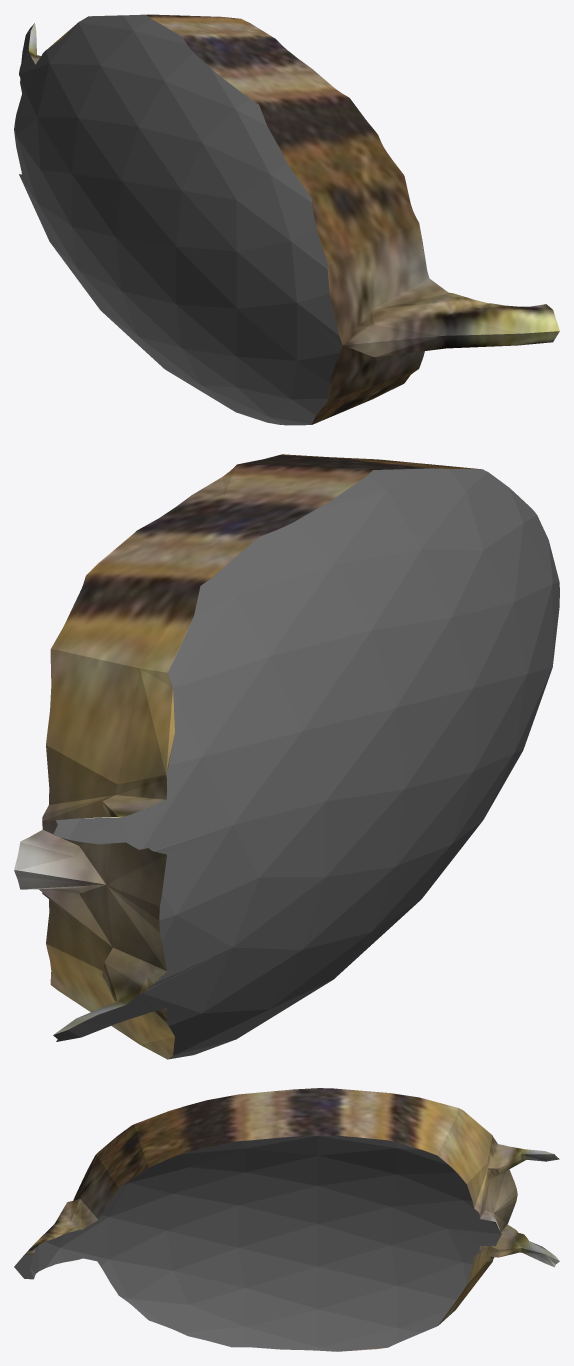
The picture shows the model from 3 angles, top to bottom: view 1: azimuth 30°, elevation 25°; view 2: azimuth 150°, elevation 25°; view 3: azimuth 270°, elevation 25°; orthographic projection. The views are drawn at different scales.
Parts seen in each view (by area): view 1: link_7_visual; view 2: link_7_visual; view 3: link_7_visual.
Boxes of the visible parts, box(x1,y1,x2,y2) form: link_7_visual: box(14, 14, 559, 425); link_7_visual: box(14, 454, 559, 1059); link_7_visual: box(14, 1088, 559, 1351).
Bounding box in the file's own units: 0.00141 × 0.0019 × 0.00382.
Materials: 1 (1 with a texture image).
